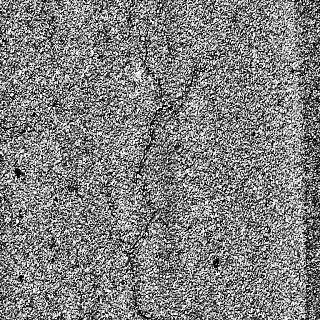crack: (125, 4, 199, 320)
